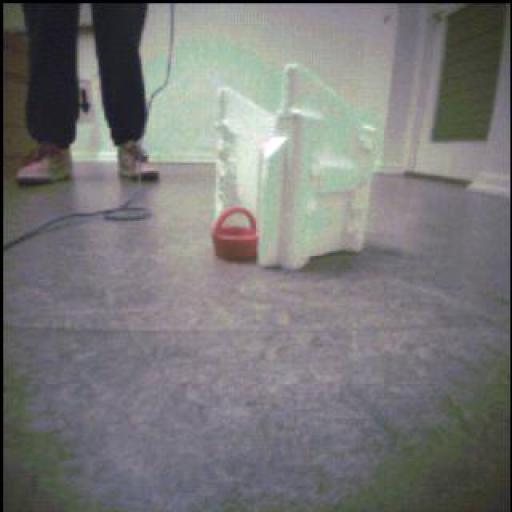Bucket: (211, 202, 264, 263)
